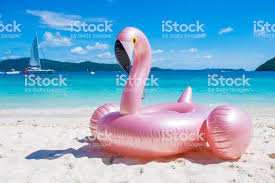Flamingo: (87, 26, 256, 164)
